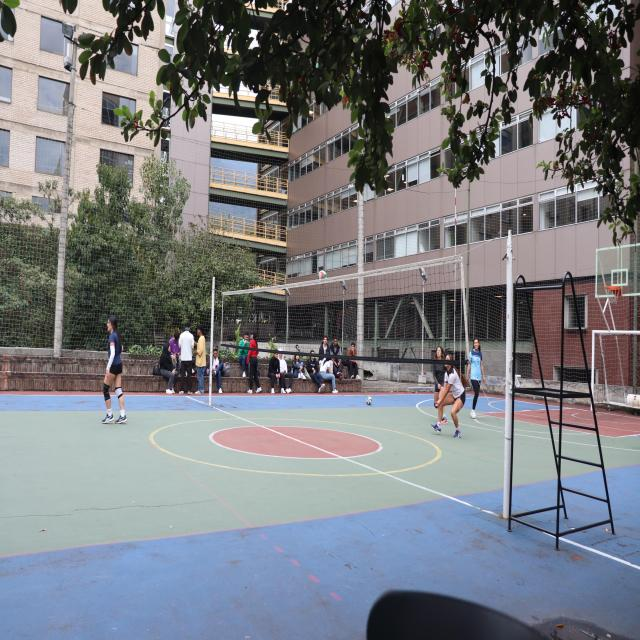volleyball: (318, 270, 327, 279), (366, 396, 372, 405)
